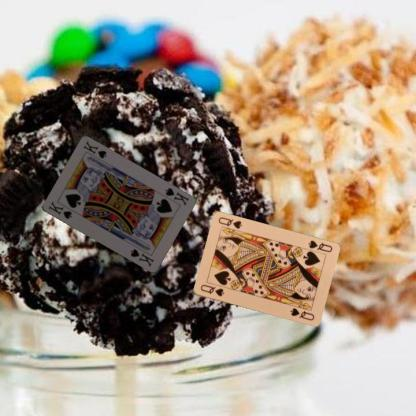Ks: (162, 185, 190, 207), (46, 199, 72, 220)
Qs: (305, 237, 333, 254), (198, 282, 225, 298)
